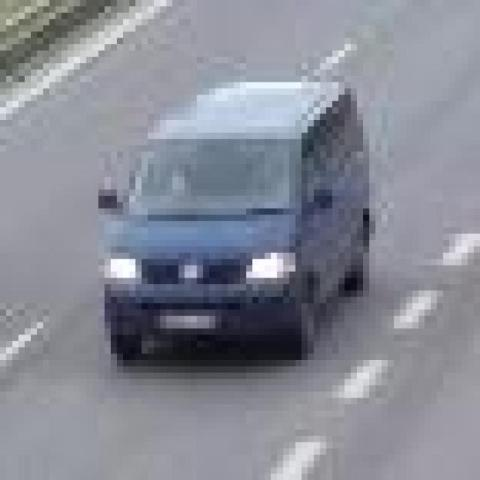van: (105, 85, 370, 364)
